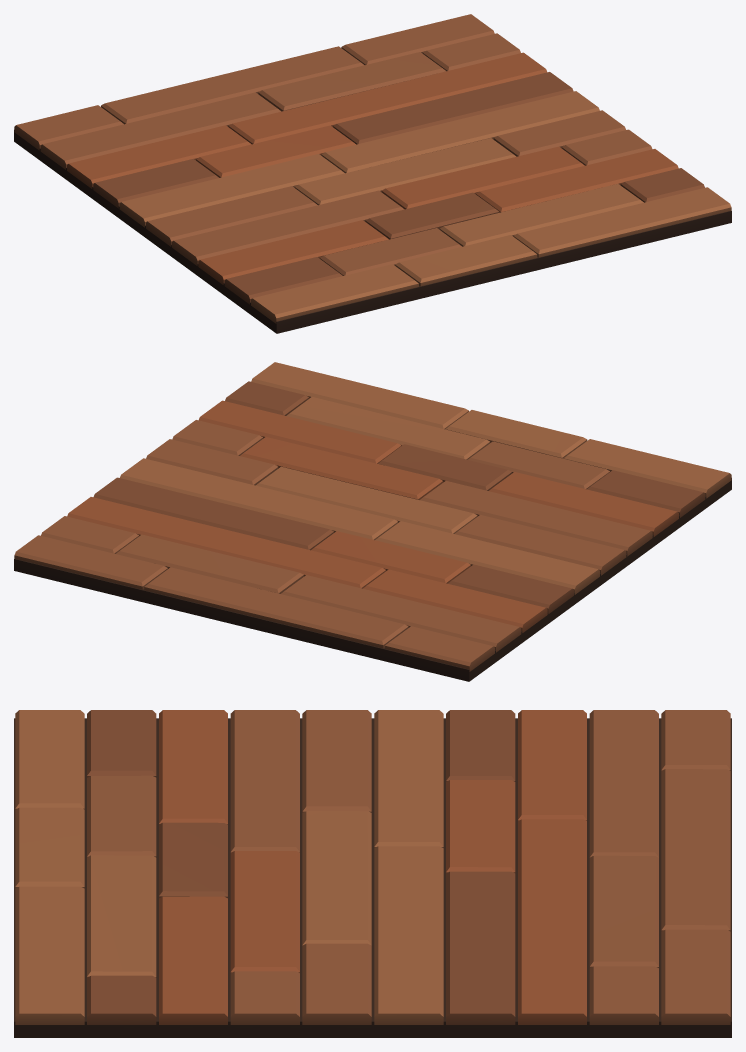
The model's file is floor_planks_large_C.glb.
3 views of the same model, one above another, from view 1: azimuth 30°, elevation 25°; view 2: azimuth 150°, elevation 25°; view 3: azimuth 270°, elevation 25° (orthographic). The views are drawn at different scales.
Visible parts, largest first — view 1: Item; view 2: Item; view 3: Item.
Boxes of the visible parts, bbox=[...] form: Item: bbox=[14, 14, 731, 333]; Item: bbox=[14, 362, 731, 681]; Item: bbox=[14, 710, 731, 1037].
Bounding box in the file's own units: 4 × 0.1567 × 4.
1 material, 1 textured.
